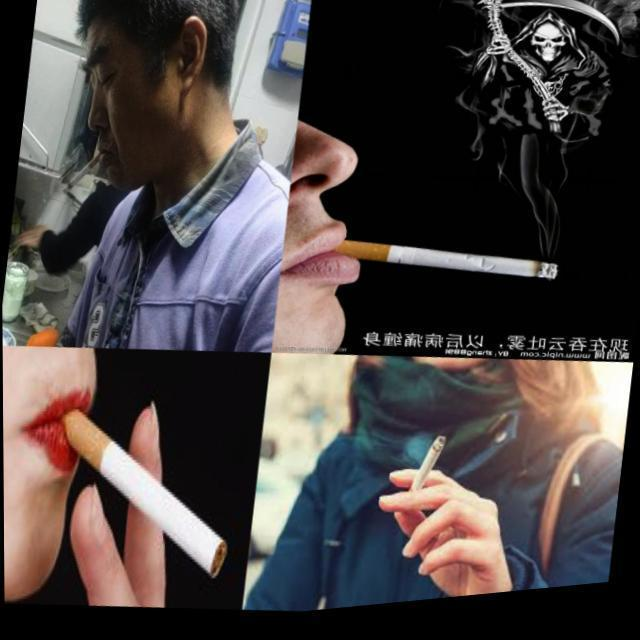Cigarette: (55, 407, 232, 577), (337, 227, 574, 284), (393, 431, 464, 496)
